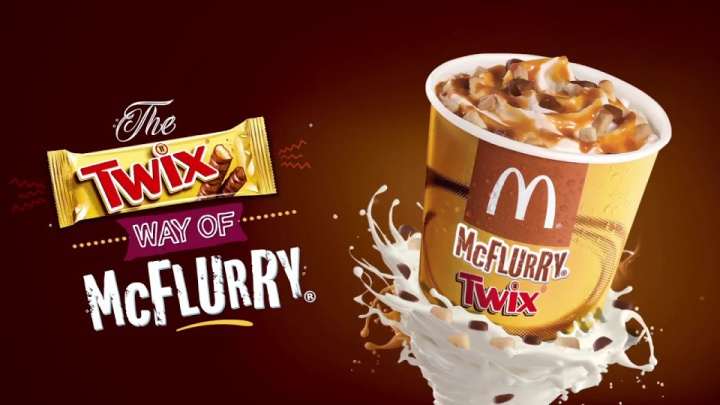mcdonalds: (484, 162, 562, 238)
